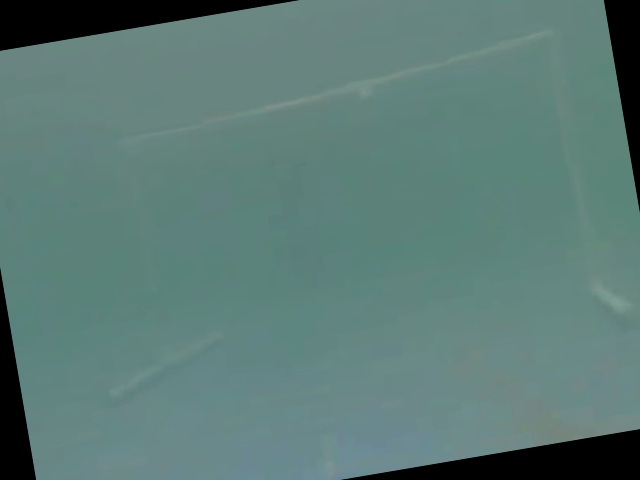gate: (100, 19, 640, 415)
